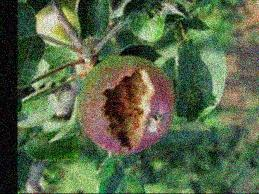rotten apple: (70, 56, 174, 155)
